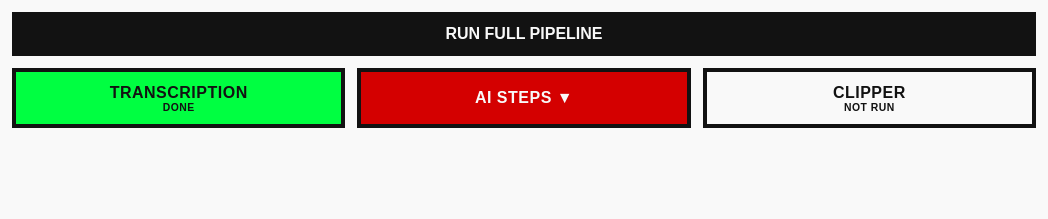
Test: PipelineController › previews the queries and their status on hover
Hover over the element showing "AI Steps ▼" at (524, 98), box [357,68,691,128]
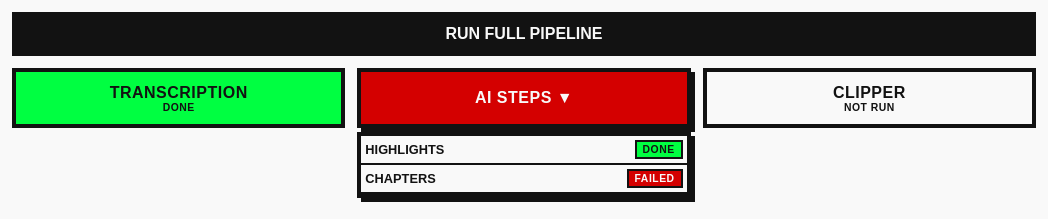
Result: the menu shows "Highlights" at [361,136,687,165]
Result: the menu shows "done" at [361,136,687,165]
Result: the menu shows "failed" at [361,165,687,194]
